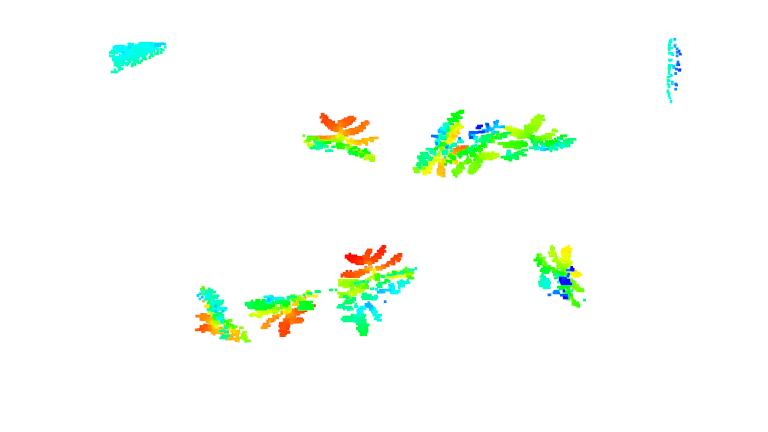chickpea: (338, 241, 417, 338), (415, 107, 500, 180), (535, 241, 591, 312), (246, 287, 326, 335), (305, 112, 379, 163), (500, 114, 576, 163), (191, 287, 248, 341)
